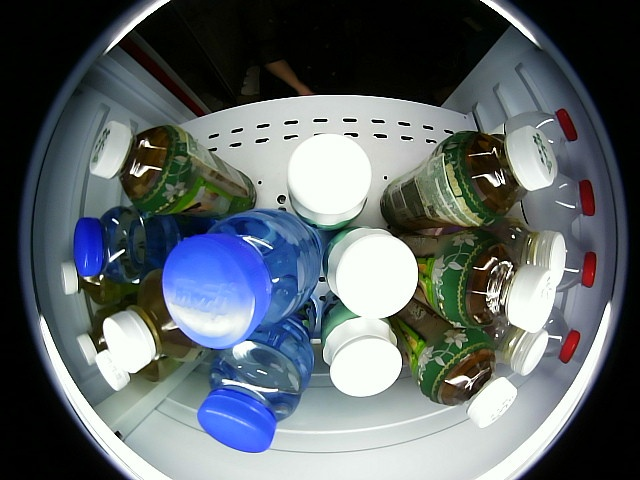asamu_xiaoye: (324, 228, 418, 319), (322, 291, 403, 396), (287, 134, 372, 232)
maidong_qingning: (162, 209, 328, 348), (197, 295, 318, 454), (75, 206, 224, 285)
moliqingcha: (380, 126, 555, 233), (387, 298, 518, 427), (90, 120, 257, 220), (395, 231, 557, 333)
nongfushanquan: (503, 171, 598, 231), (488, 108, 577, 154), (554, 233, 598, 293), (542, 305, 580, 363)
shuiputao: (488, 219, 567, 285), (483, 324, 549, 376)
tianwo_fengmiyouzi: (103, 267, 204, 374), (77, 300, 135, 367), (61, 259, 140, 305), (95, 350, 183, 390)
